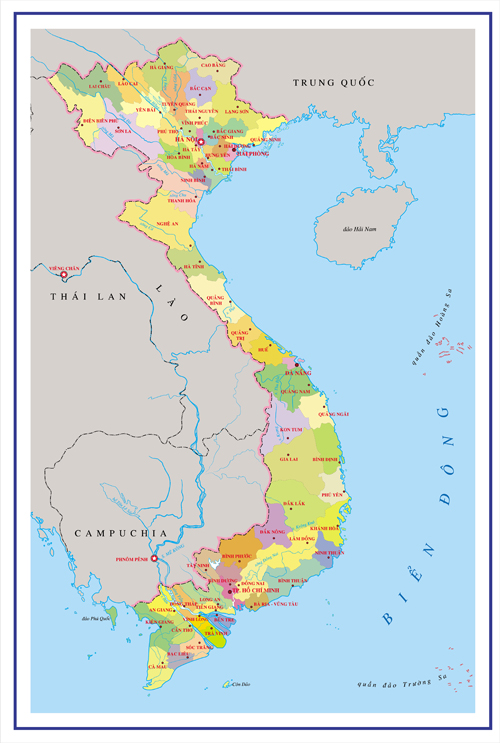Island: (348, 644, 473, 708), (412, 284, 480, 386)
